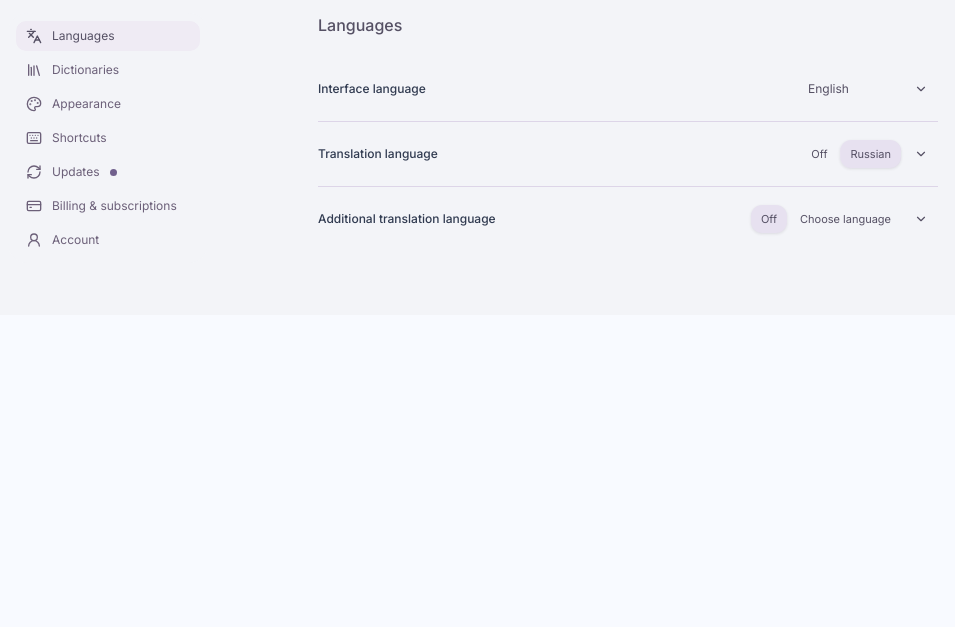
it: Updates navigation marks news read, keeps update action and active page distinct
The image size is (955, 627).
Click the button "Updates" at (108, 172), box [16,157,200,187]
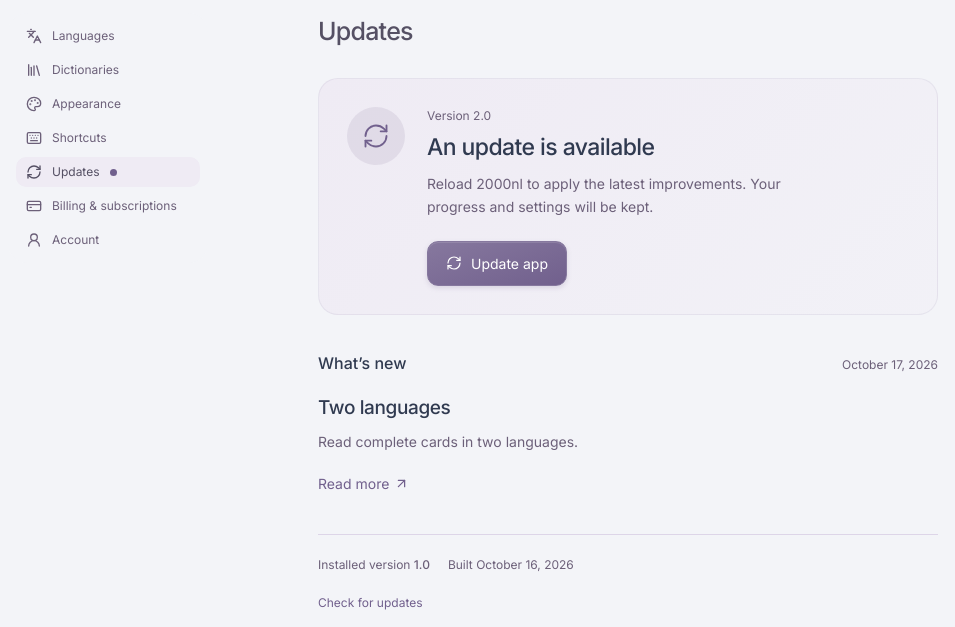
Result: the heading "Updates" is shown at [318,16,413,46]
Result: the button "Update app" is enabled at [427,241,567,286]
